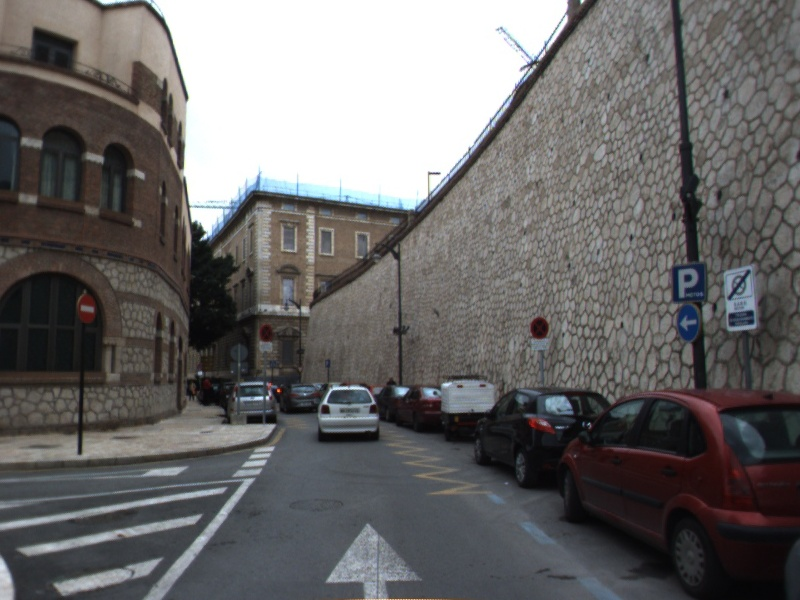STRAIGHT: (323, 521, 424, 600)
